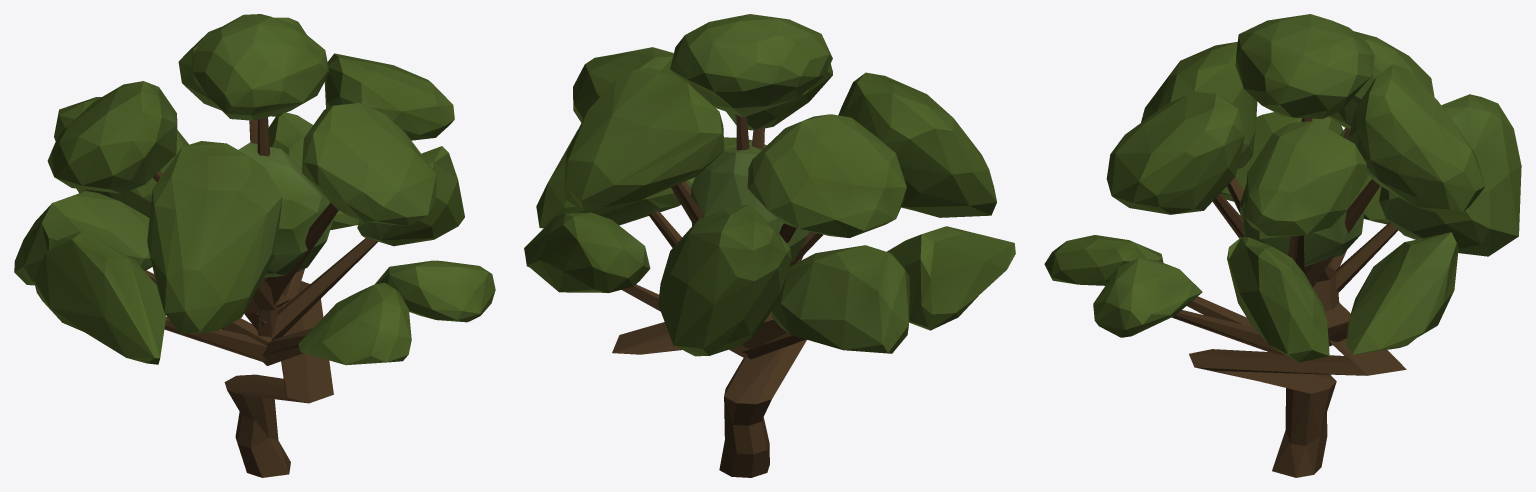
File: oak_high.glb
The picture shows the model from 3 angles, left to right: view 1: azimuth 30°, elevation 25°; view 2: azimuth 150°, elevation 25°; view 3: azimuth 270°, elevation 25°; orthographic projection. The views are drawn at different scales.
Parts seen in each view (by area): view 1: oak_high; view 2: oak_high; view 3: oak_high.
Part boxes in pixels (x1,y1,x2,y2): oak_high: (14, 14, 495, 477); oak_high: (524, 14, 1015, 477); oak_high: (1044, 14, 1521, 477).
Size of the model in its own units: 2.52 by 2.6 by 2.56.
